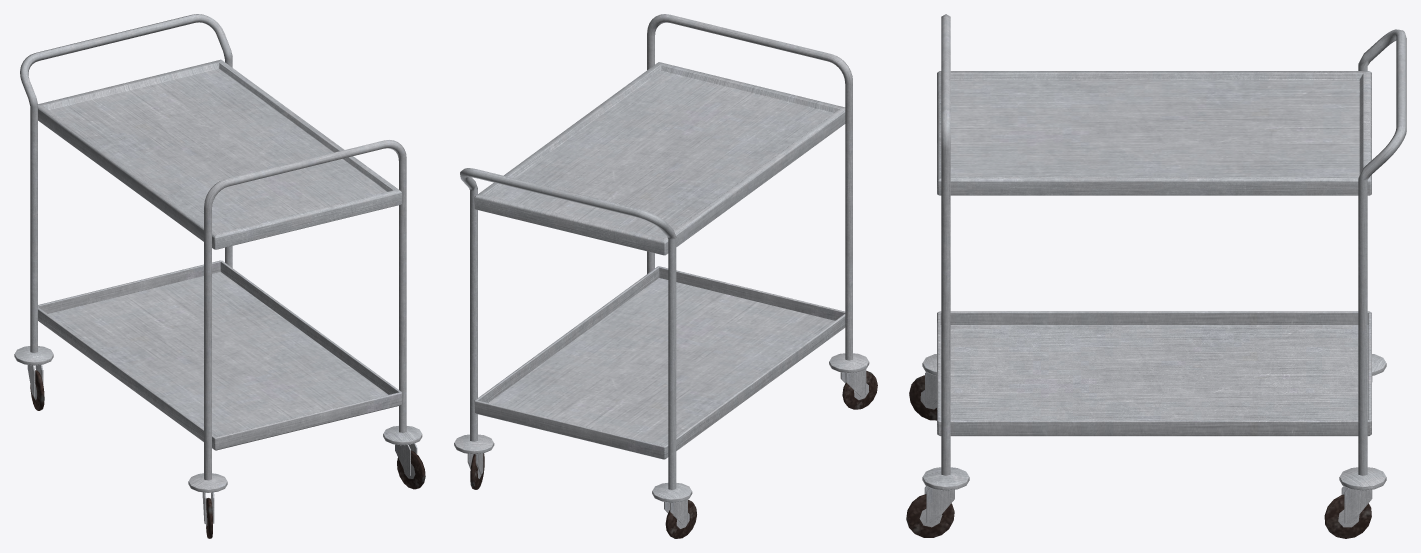
File: SM_Strolley.FBX
3 views of the same model, side by side, from view 1: azimuth 30°, elevation 25°; view 2: azimuth 150°, elevation 25°; view 3: azimuth 270°, elevation 25° (orthographic). The views are drawn at different scales.
Visible parts, largest first — view 1: SM_Strolley_LOD0; view 2: SM_Strolley_LOD0; view 3: SM_Strolley_LOD0.
Boxes of the visible parts, x1,y1,x2,y2 form: SM_Strolley_LOD0: [14, 14, 425, 538]; SM_Strolley_LOD0: [454, 14, 877, 538]; SM_Strolley_LOD0: [906, 14, 1406, 538].
Size of what is drawn, in the model's own units: 72.88 by 106 by 115.
